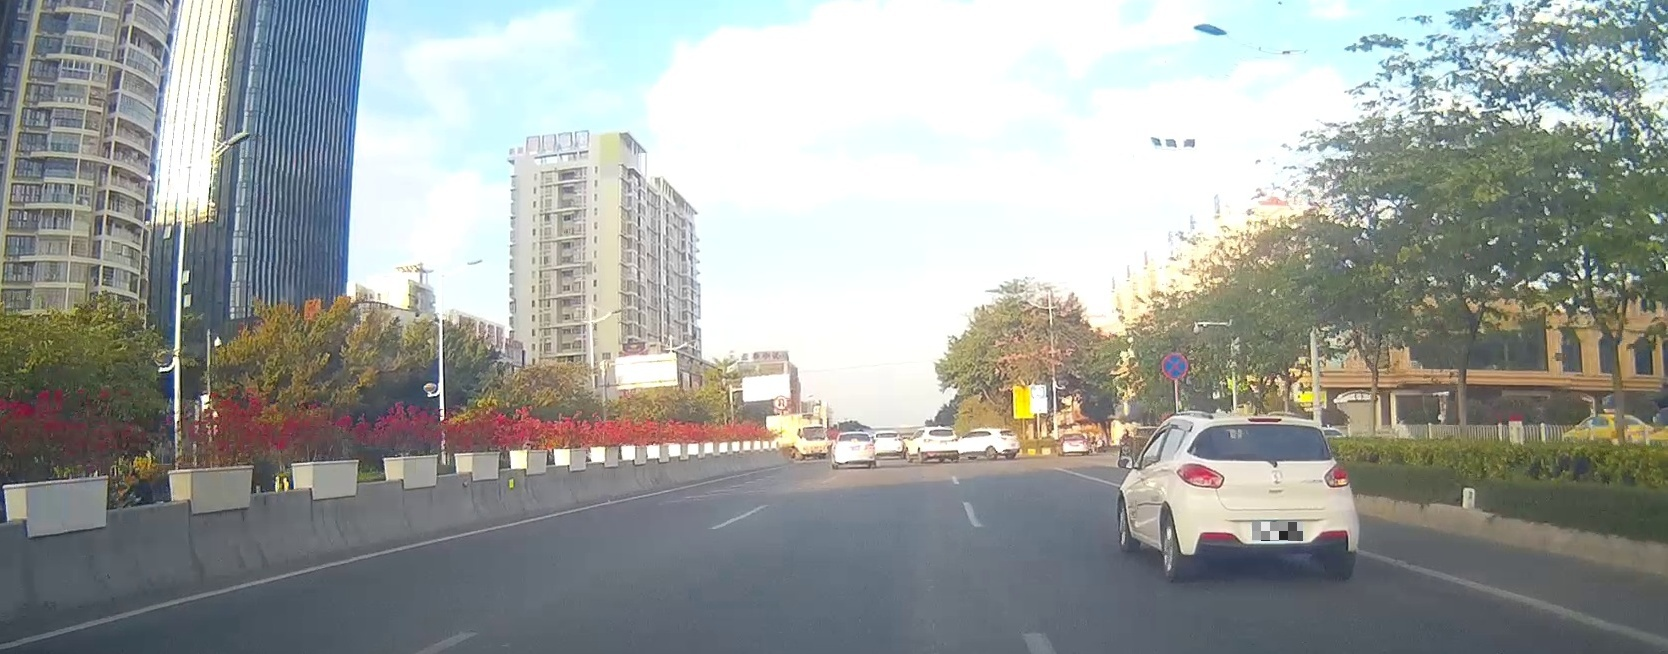L_light: (1175, 463, 1225, 489)
R_light: (1323, 463, 1350, 488)
T_light: (1247, 417, 1282, 422)
day-right: (1173, 410, 1360, 583)
plate_1: (1252, 522, 1303, 541)
